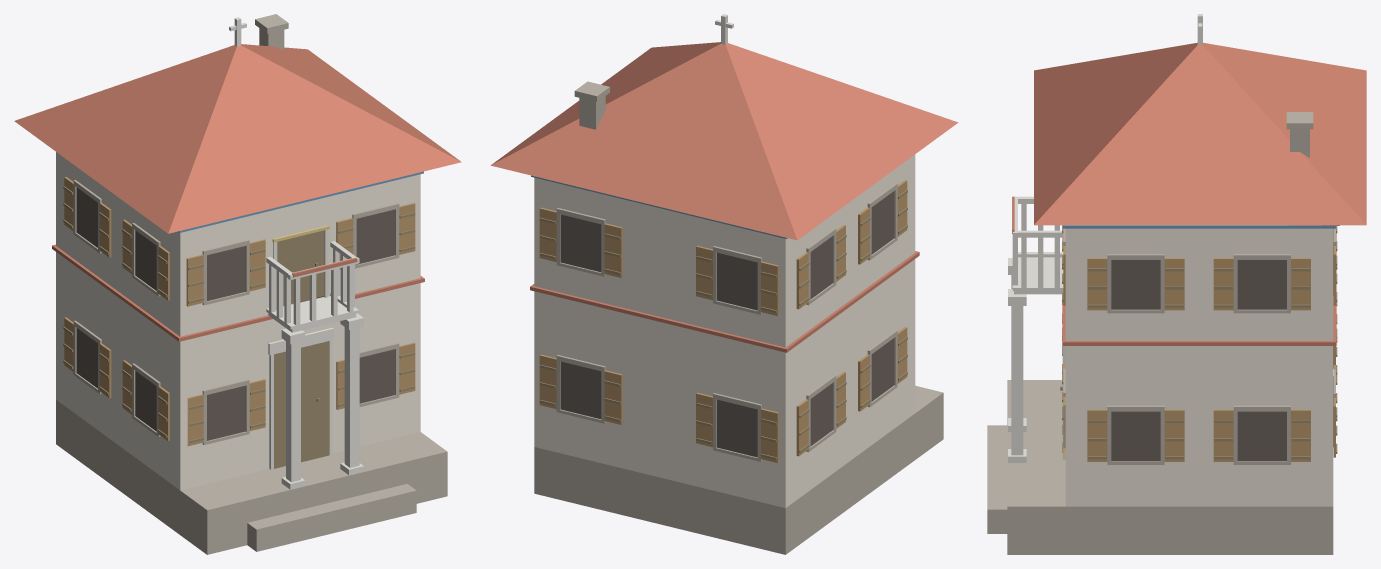
File: Housing_Byzantine_01.fbx
The picture shows the model from 3 angles, left to right: view 1: azimuth 30°, elevation 25°; view 2: azimuth 150°, elevation 25°; view 3: azimuth 270°, elevation 25°; orthographic projection. The views are drawn at different scales.
Visible parts, largest first — view 1: Housing_Byzantine_01_Mesh; view 2: Housing_Byzantine_01_Mesh; view 3: Housing_Byzantine_01_Mesh.
Part boxes in pixels (x1,y1,x2,y2): Housing_Byzantine_01_Mesh: (14, 14, 461, 554); Housing_Byzantine_01_Mesh: (490, 14, 958, 554); Housing_Byzantine_01_Mesh: (987, 14, 1366, 554).
Bounding box in the file's own units: 5.5 × 7.9 × 5.7.
